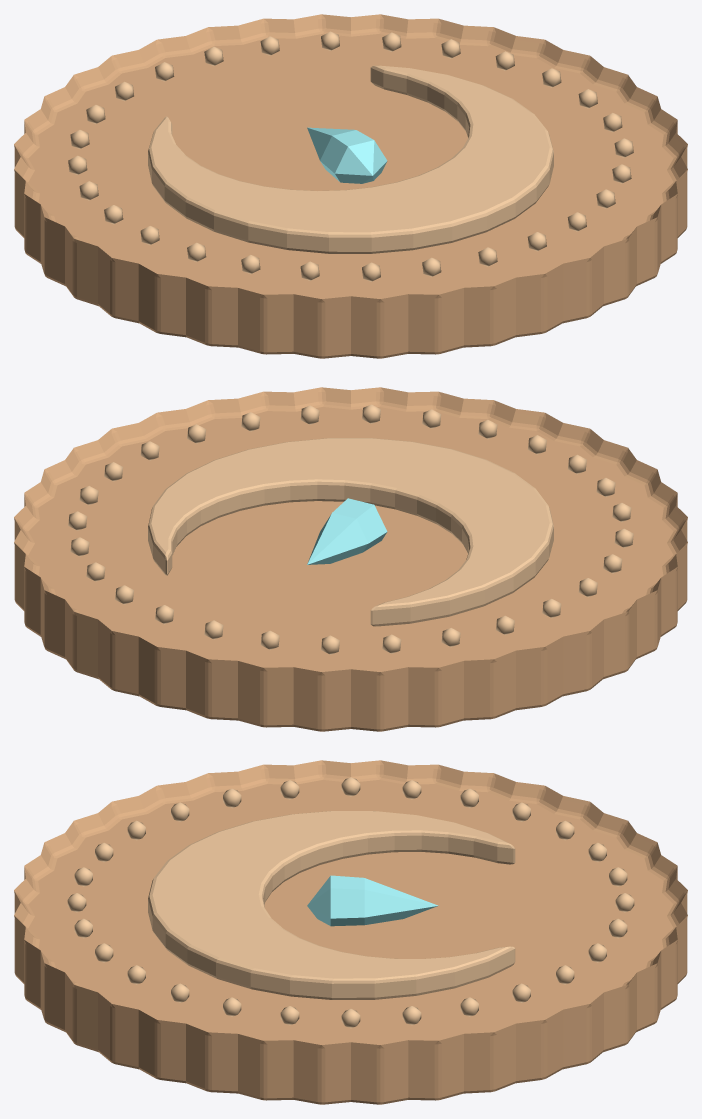
Rendered from SH10_Pickup_Coin_Bronze.fbx.
3 views of the same model, one above another, from view 1: azimuth 30°, elevation 25°; view 2: azimuth 150°, elevation 25°; view 3: azimuth 270°, elevation 25° (orthographic).
Parts seen in each view (by area): view 1: Coin_Bronze_Body, Coin_Bronze_Crescent1, Coin_Bronze_Beads1, Coin_Bronze_Flame1; view 2: Coin_Bronze_Body, Coin_Bronze_Crescent1, Coin_Bronze_Beads1, Coin_Bronze_Flame1; view 3: Coin_Bronze_Body, Coin_Bronze_Crescent1, Coin_Bronze_Beads1, Coin_Bronze_Flame1.
Part boxes in pixels (left/top/right/bottom): Coin_Bronze_Body: left=14, top=14, right=687, bottom=358; Coin_Bronze_Crescent1: left=148, top=65, right=553, bottom=253; Coin_Bronze_Beads1: left=68, top=31, right=633, bottom=281; Coin_Bronze_Flame1: left=307, top=127, right=387, bottom=183; Coin_Bronze_Body: left=14, top=387, right=687, bottom=731; Coin_Bronze_Crescent1: left=148, top=438, right=553, bottom=626; Coin_Bronze_Beads1: left=68, top=404, right=633, bottom=654; Coin_Bronze_Flame1: left=307, top=498, right=387, bottom=564; Coin_Bronze_Body: left=14, top=760, right=687, bottom=1104; Coin_Bronze_Crescent1: left=148, top=811, right=515, bottom=999; Coin_Bronze_Beads1: left=67, top=777, right=634, bottom=1028; Coin_Bronze_Flame1: left=307, top=875, right=438, bottom=926.
Size of the model in its own units: 0.9962 by 0.1679 by 0.9962.
